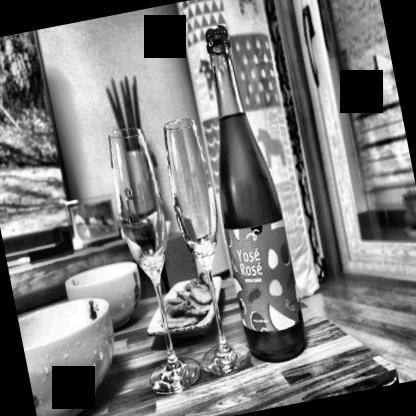yoserose: (222, 214, 305, 338)
